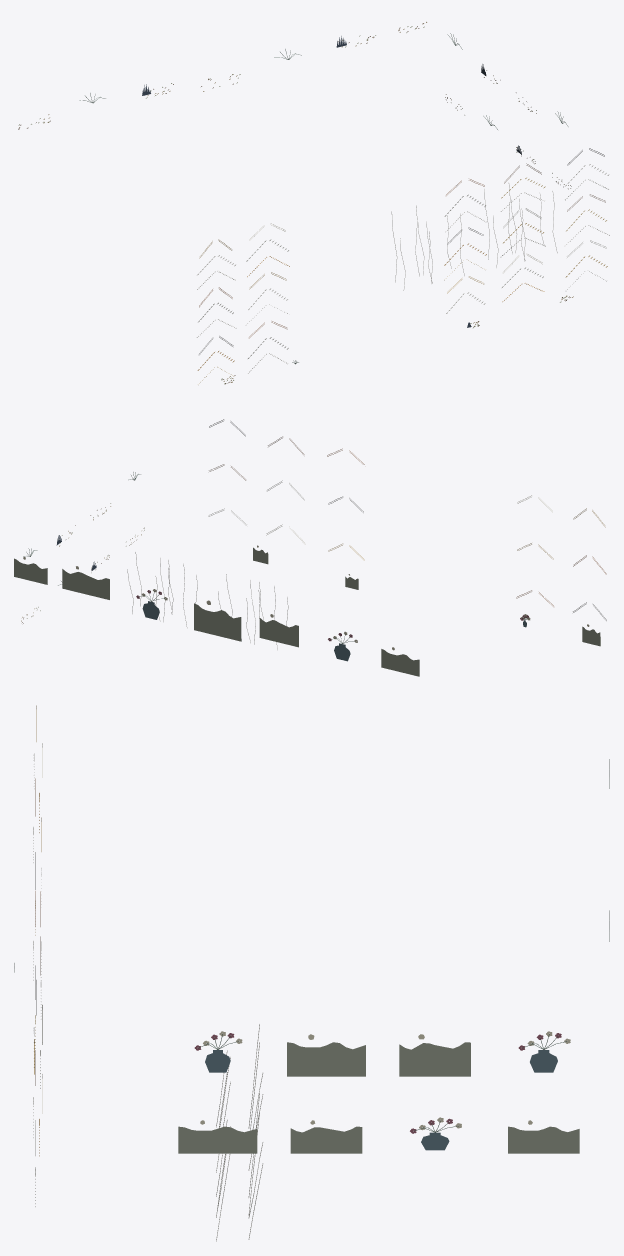
File: frame-inlay.glb
3 views of the same model, one above another, from view 1: azimuth 30°, elevation 25°; view 2: azimuth 150°, elevation 25°; view 3: azimuth 270°, elevation 25° (orthographic). The views are drawn at different scales.
Visible parts, largest first — view 1: HangaramInlay; view 2: HangaramInlay; view 3: HangaramInlay.
Boxes of the visible parts, bbox=[...] form: HangaramInlay: bbox=[18, 22, 609, 384]; HangaramInlay: bbox=[14, 419, 606, 676]; HangaramInlay: bbox=[14, 705, 609, 1241].
Bounding box in the file's own units: 6.01 × 2.1 × 4.77.
